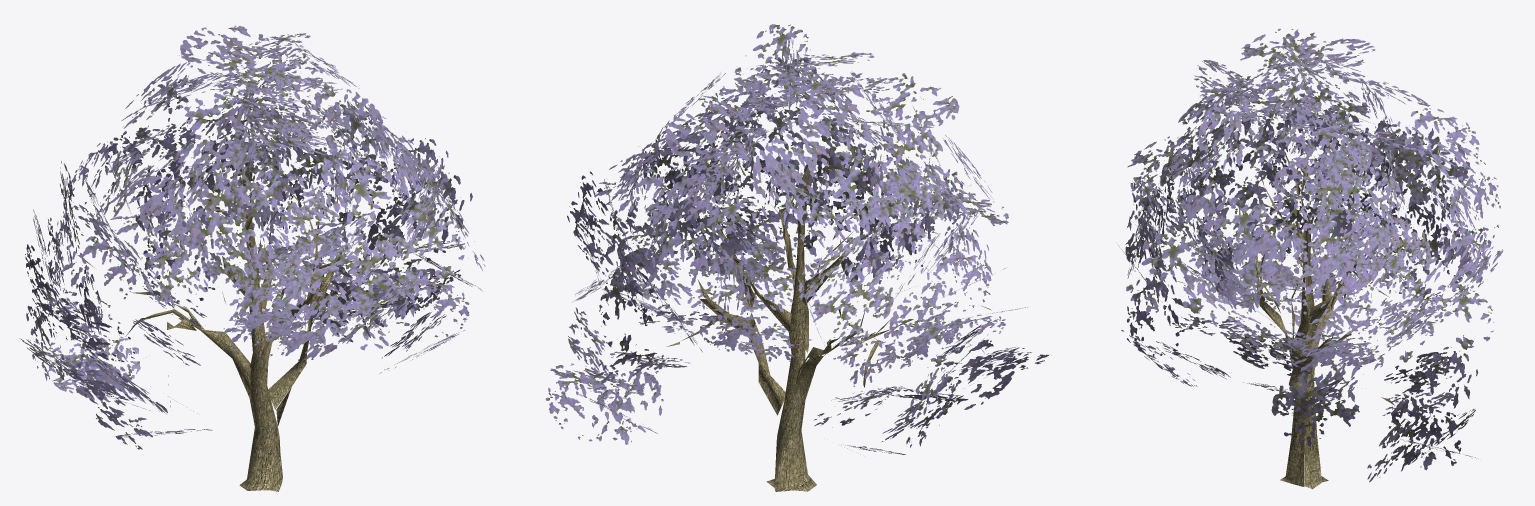
File: jacaranda_bloom_a_lod1.glb
3 renders of one model, left to right at view 1: azimuth 30°, elevation 25°; view 2: azimuth 150°, elevation 25°; view 3: azimuth 270°, elevation 25°, orthographic. The views are drawn at different scales.
Parts seen in each view (by area): view 1: jacaranda_bloom_a_lod1; view 2: jacaranda_bloom_a_lod1; view 3: jacaranda_bloom_a_lod1.
Part boxes in pixels (bbox=[...]): jacaranda_bloom_a_lod1: bbox=[19, 25, 485, 491]; jacaranda_bloom_a_lod1: bbox=[545, 24, 1048, 491]; jacaranda_bloom_a_lod1: bbox=[1118, 28, 1503, 489].
Bounding box in the file's own units: 14.73 × 13.91 × 11.87.
2 materials, 2 textured.
